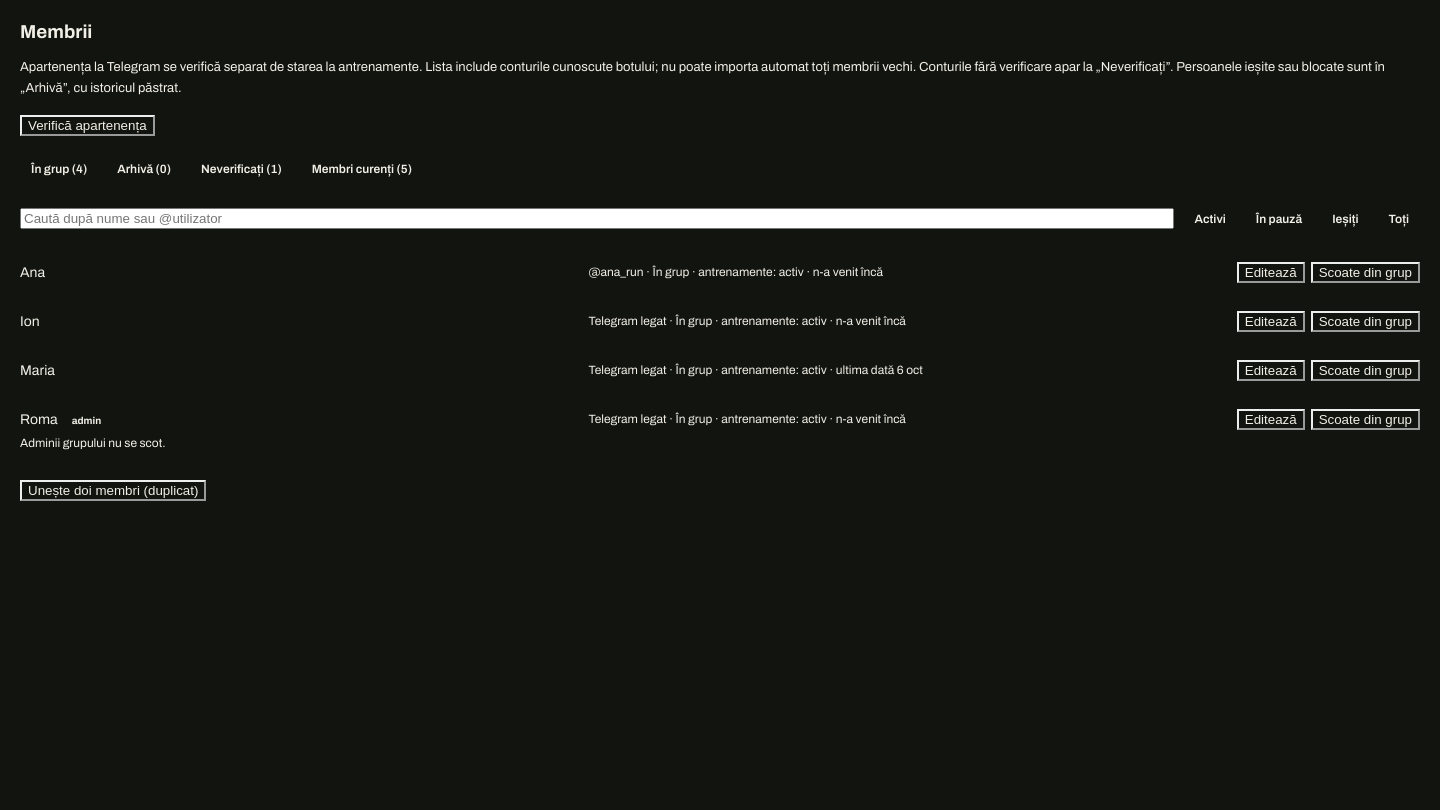
Test: Membrii grupului — editarea, conturile, unirea › un nume de o literă blochează salvarea
Expected: the text "Ion" is shown, [20,314,40,329]
Click the button "Editează" in the row of "Ion" at (1271,321), box [1237,311,1305,332]
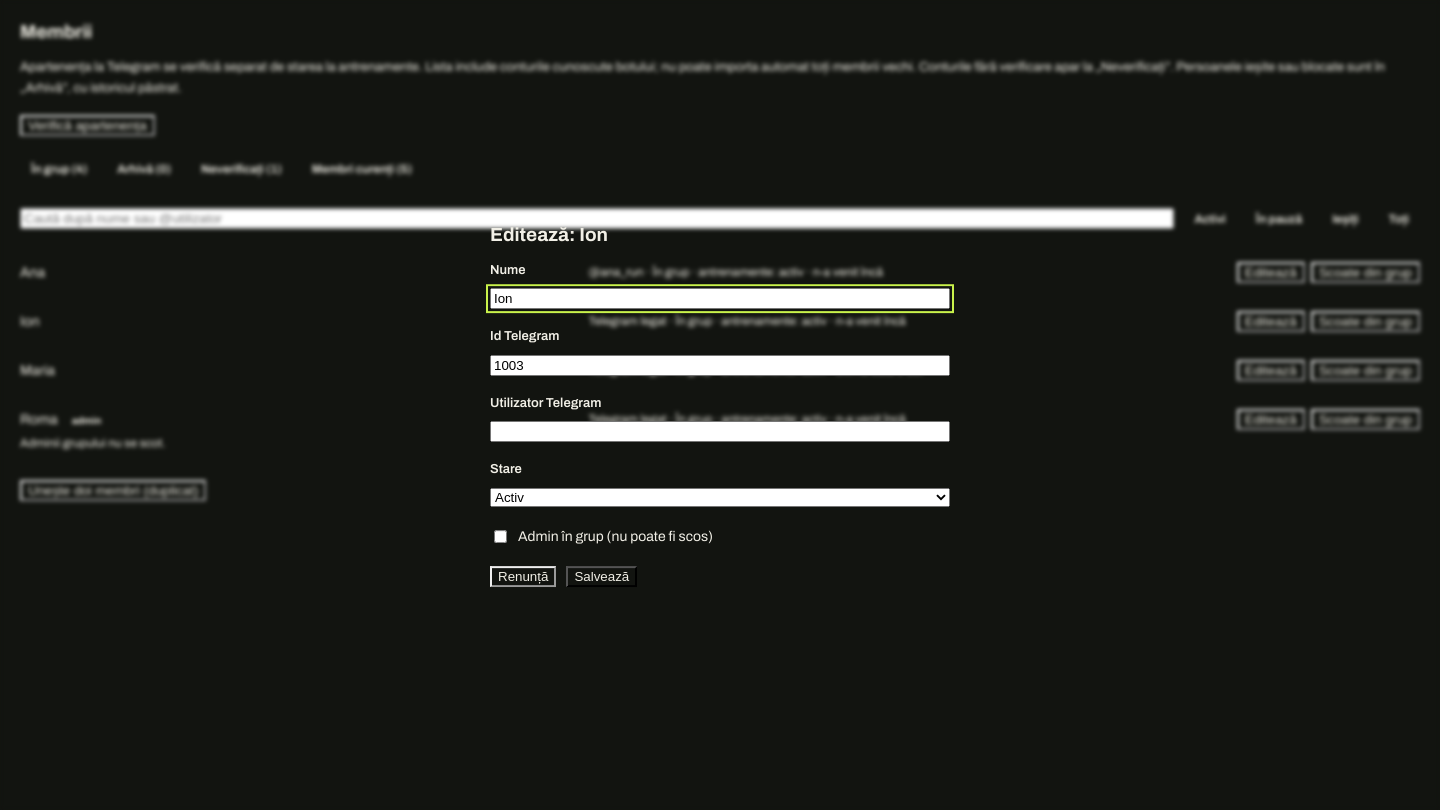
Replace the text in the field labelled "Nume" with "I" at (720,299), box [490,288,950,309]
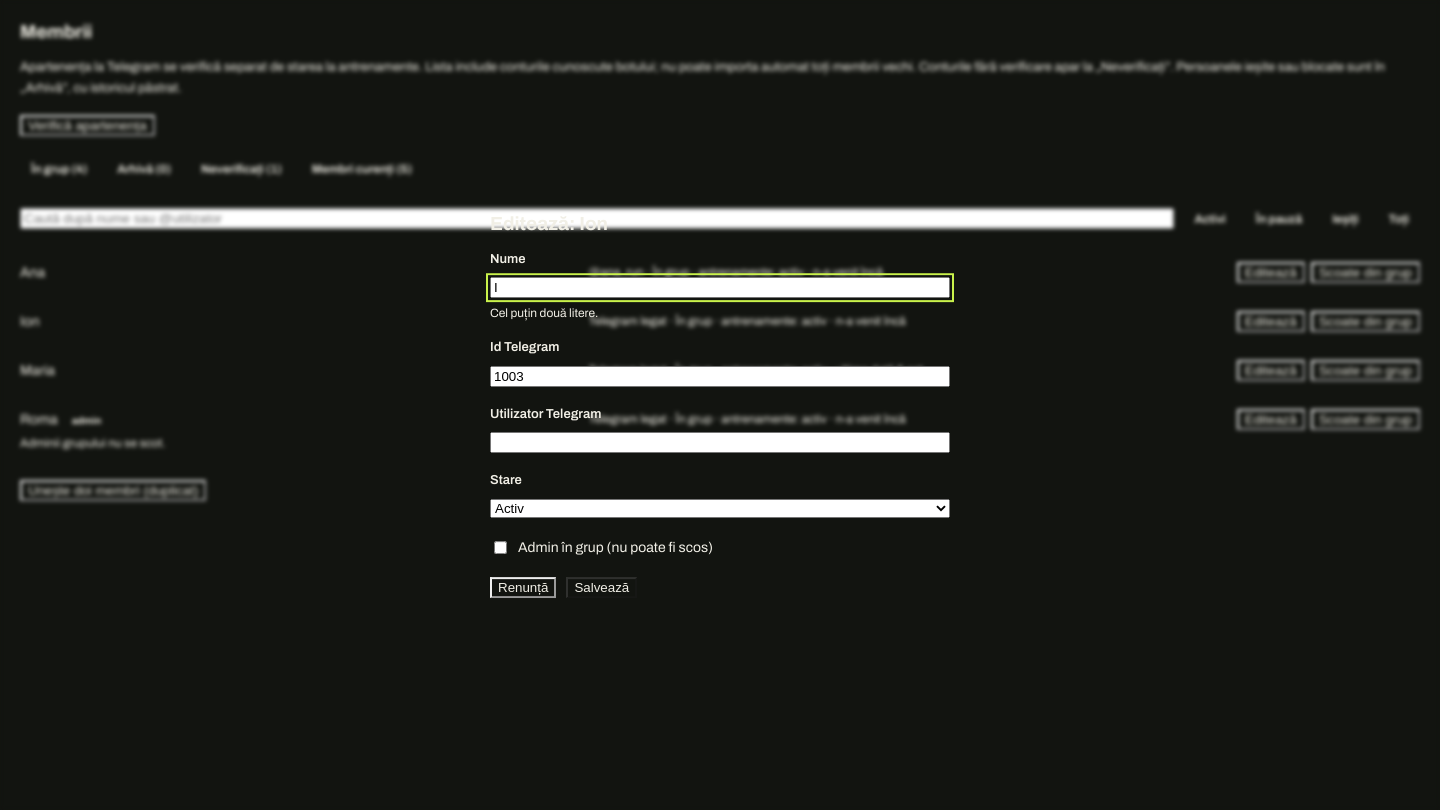
Result: the button "Salvează" is disabled at [566,577,637,598]
